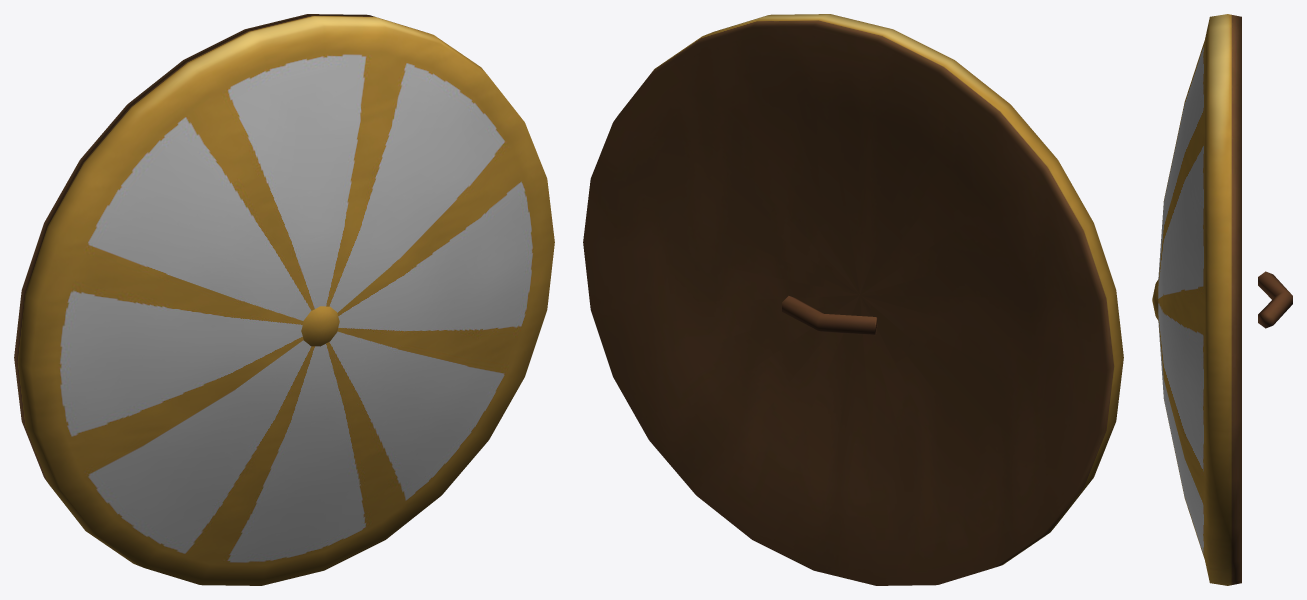
File: bouclier-rond-orient.glb
The picture shows the model from 3 angles, left to right: view 1: azimuth 30°, elevation 25°; view 2: azimuth 150°, elevation 25°; view 3: azimuth 270°, elevation 25°; orthographic projection. The views are drawn at different scales.
Visible parts, largest first — view 1: bouclier-rond-orient; view 2: bouclier-rond-orient; view 3: bouclier-rond-orient.
Part boxes in pixels (x1,y1,x2,y2): bouclier-rond-orient: (14,14,554,585); bouclier-rond-orient: (583,14,1123,585); bouclier-rond-orient: (1152,14,1292,585).
Bounding box in the file's own units: 0.606 × 0.6016 × 0.1487.
Materials: 1 (1 with a texture image).
